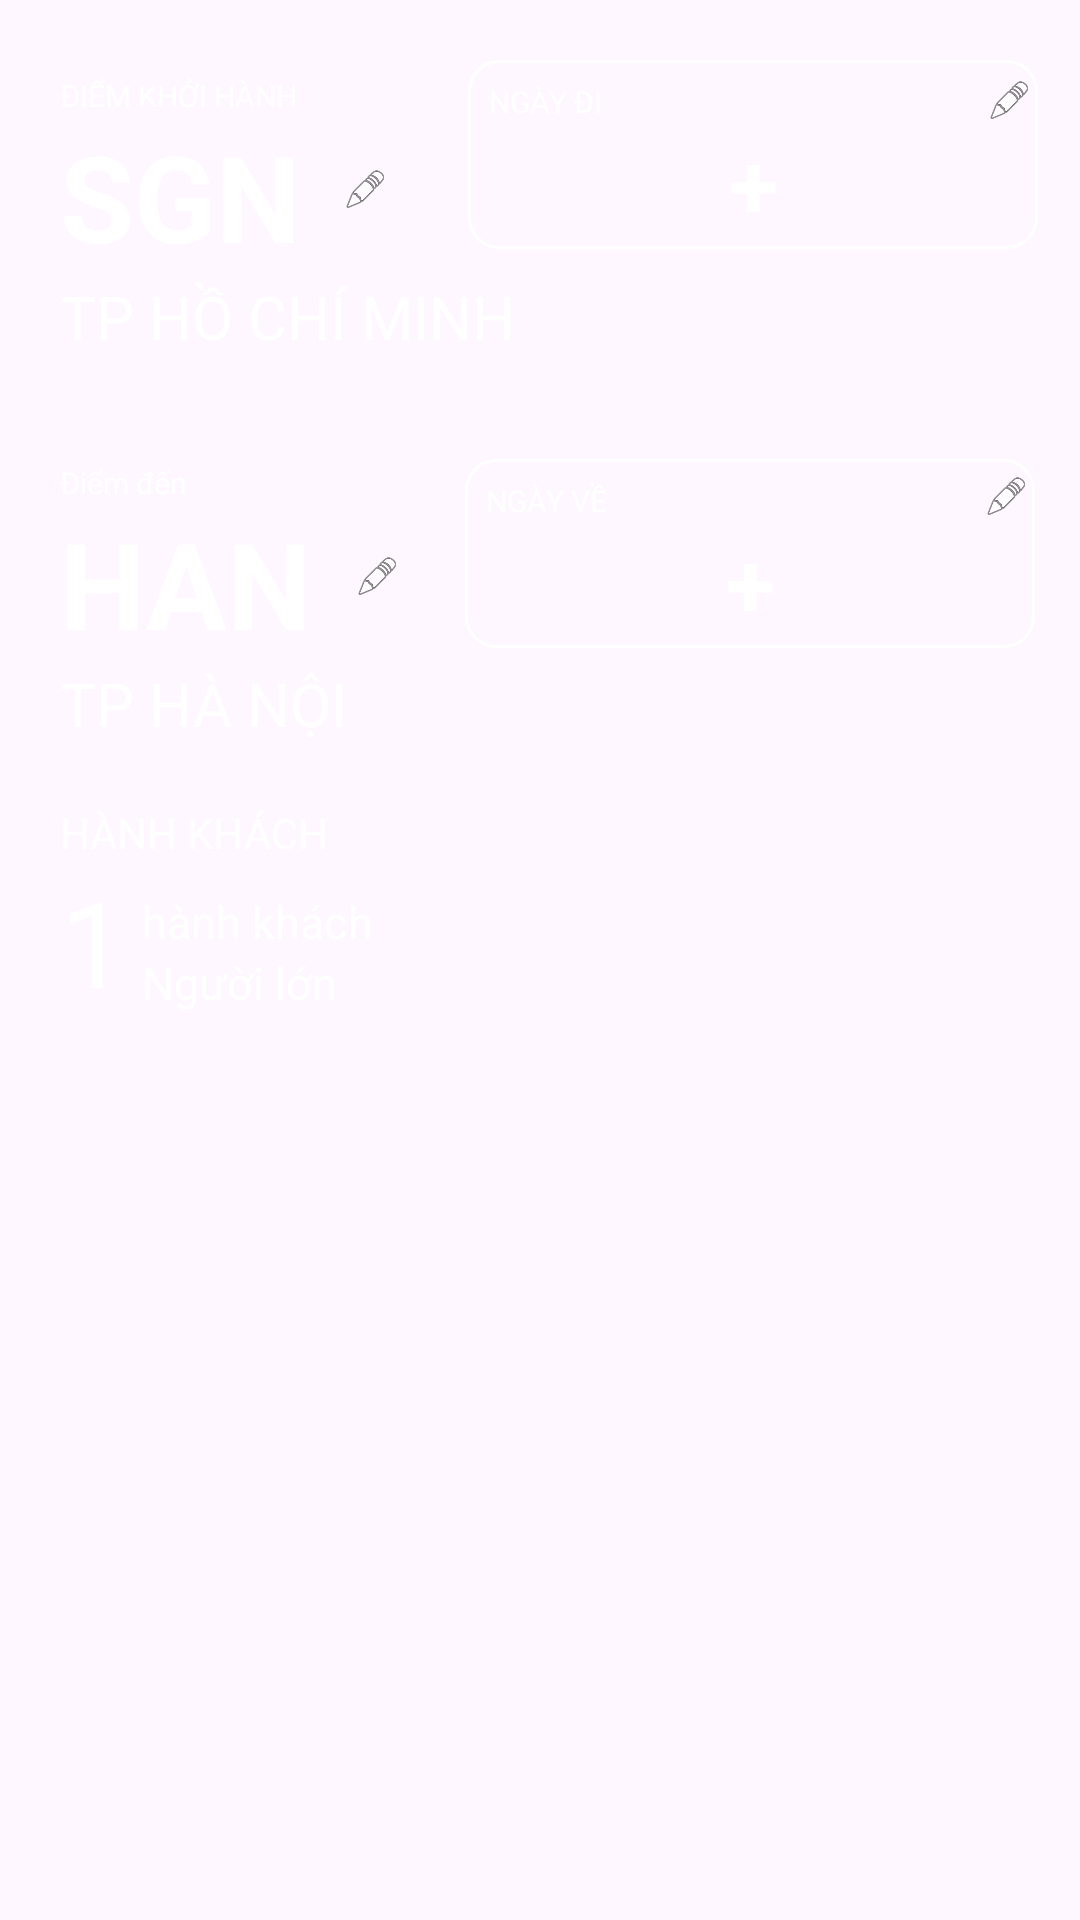

Named icons in this screenshot (1080 × 1920) and their centers, [x,y]:
edit: [1009,100], [365,189], [1006,496], [377,576]
